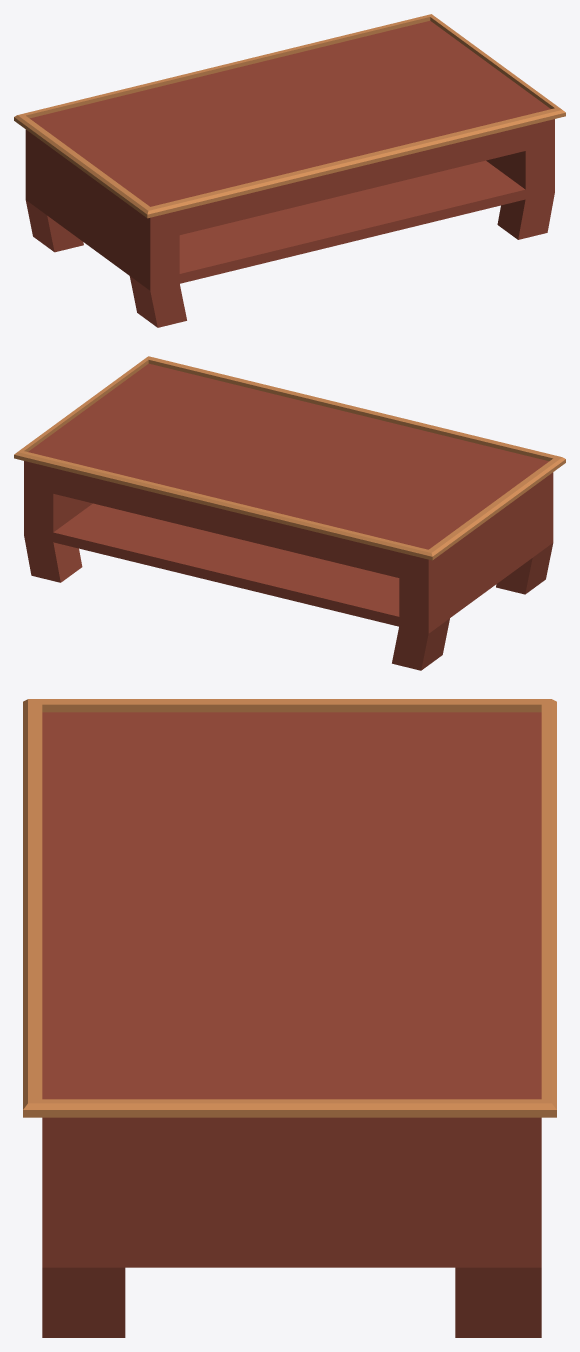
The model's file is STM_CoffeeTable.fbx.
3 views of the same model, one above another, from view 1: azimuth 30°, elevation 25°; view 2: azimuth 150°, elevation 25°; view 3: azimuth 270°, elevation 25° (orthographic). The views are drawn at different scales.
Visible parts, largest first — view 1: pCube84; view 2: pCube84; view 3: pCube84.
Part boxes in pixels (x1,y1,x2,y2): pCube84: (14, 14, 565, 327); pCube84: (14, 356, 565, 670); pCube84: (23, 699, 556, 1337).
Size of the model in its own units: 2.4 by 0.6734 by 1.33.
